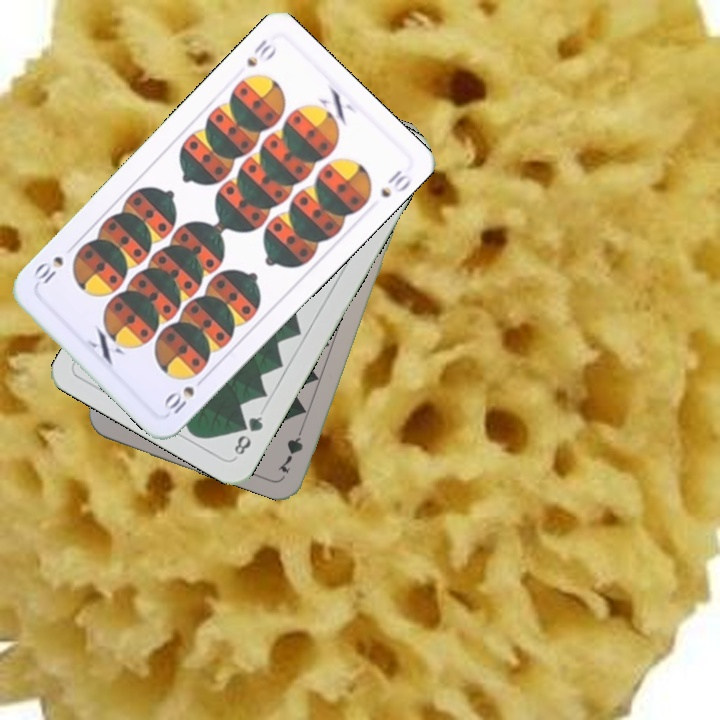G7: (273, 419, 307, 477)
G8: (230, 412, 266, 458)
S10: (160, 372, 209, 417), (242, 35, 280, 70)
